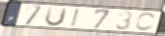3: (115, 10, 133, 31)
7: (24, 4, 43, 27), (93, 8, 111, 31)
C: (134, 12, 158, 32)
I: (69, 7, 82, 29)
U: (44, 6, 70, 28)
